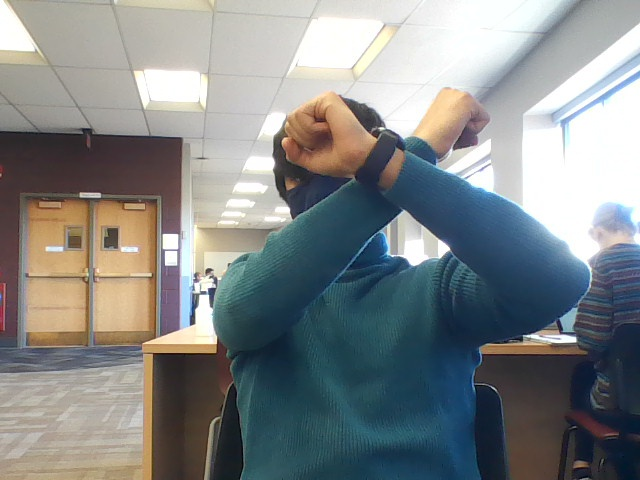cancel: (276, 58, 514, 305)
